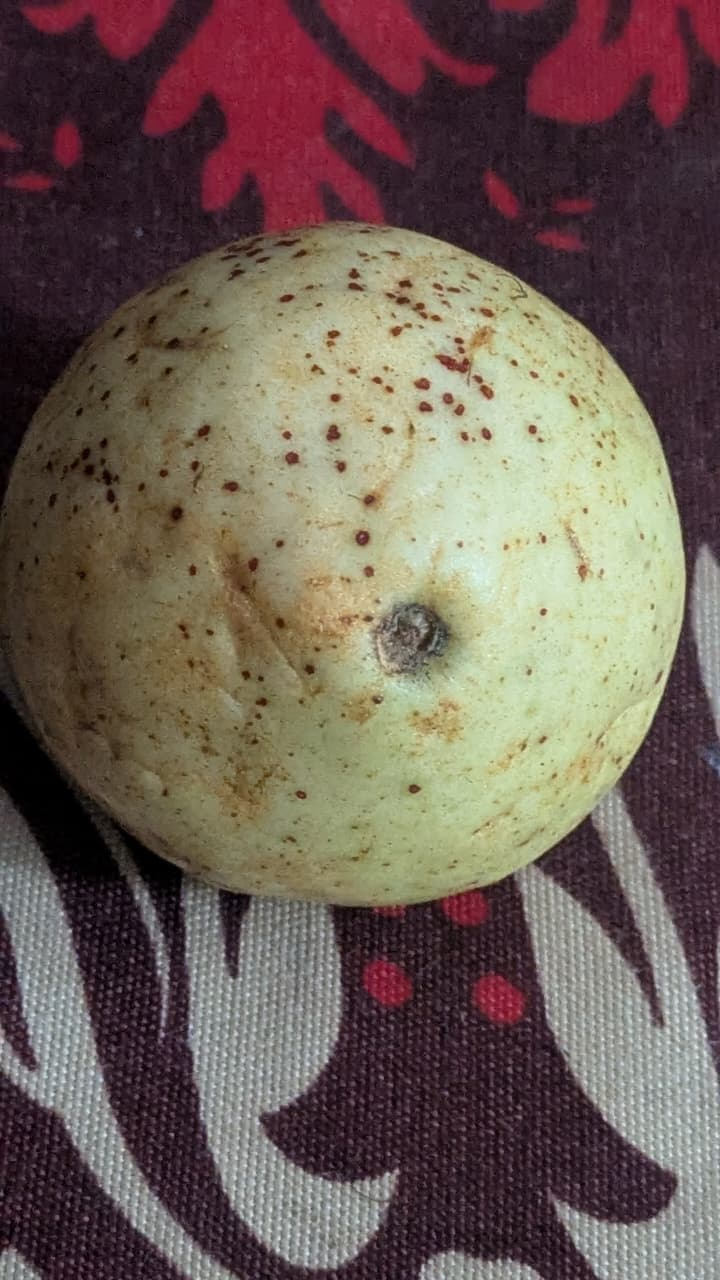guava: (0, 240, 595, 1039)
